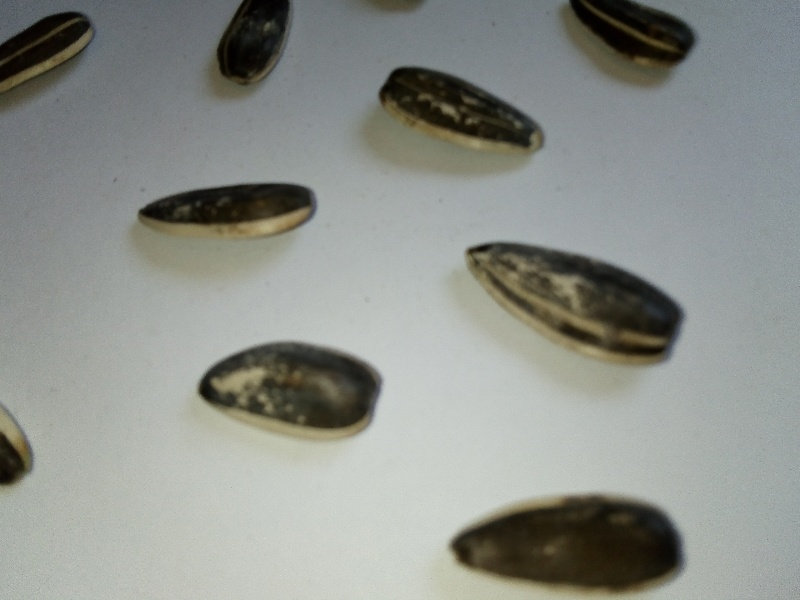girasol: (455, 233, 715, 371), (437, 483, 697, 600), (188, 328, 390, 450), (367, 56, 554, 166), (131, 174, 337, 254)
